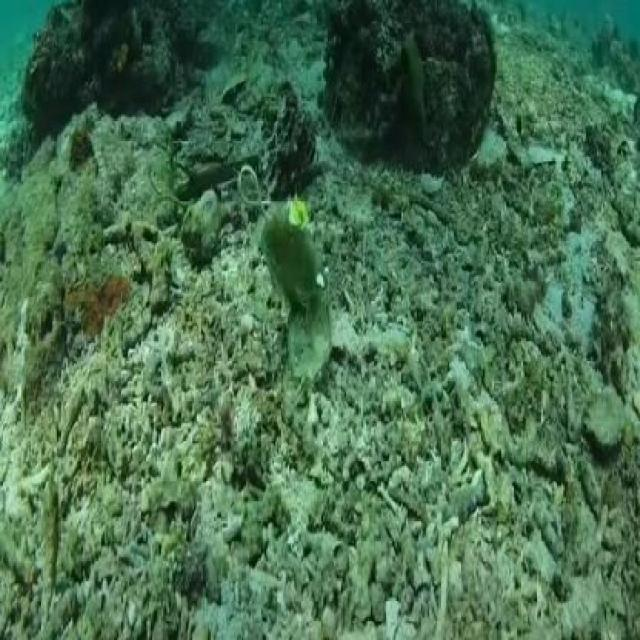Mask: (235, 157, 336, 414)
